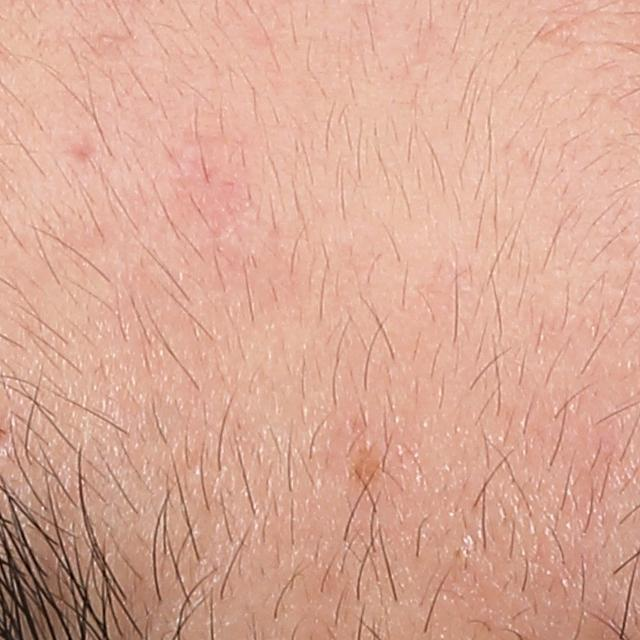atrophic_scar: (64, 137, 99, 162)
